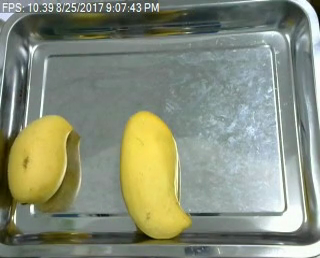Mango: (116, 109, 193, 239), (5, 113, 73, 204)
